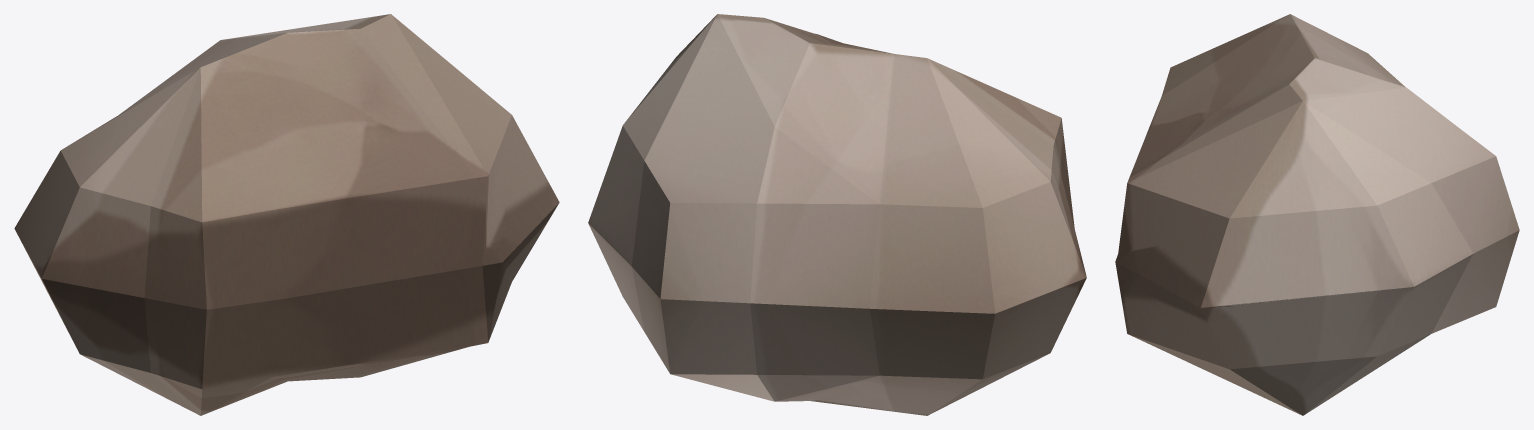
The model's file is TER_Boulder01.glb.
The picture shows the model from 3 angles, left to right: view 1: azimuth 30°, elevation 25°; view 2: azimuth 150°, elevation 25°; view 3: azimuth 270°, elevation 25°; orthographic projection. The views are drawn at different scales.
Parts seen in each view (by area): view 1: TER_Boulder01; view 2: TER_Boulder01; view 3: TER_Boulder01.
Boxes of the visible parts, <box> form: TER_Boulder01: <box>14,14,559,415</box>; TER_Boulder01: <box>588,14,1086,415</box>; TER_Boulder01: <box>1115,14,1519,415</box>.
Size of the model in its own units: 4.76 by 3.4 by 3.95.
1 material, 1 textured.
